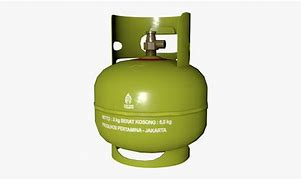gas_ijo: (94, 11, 208, 169)
